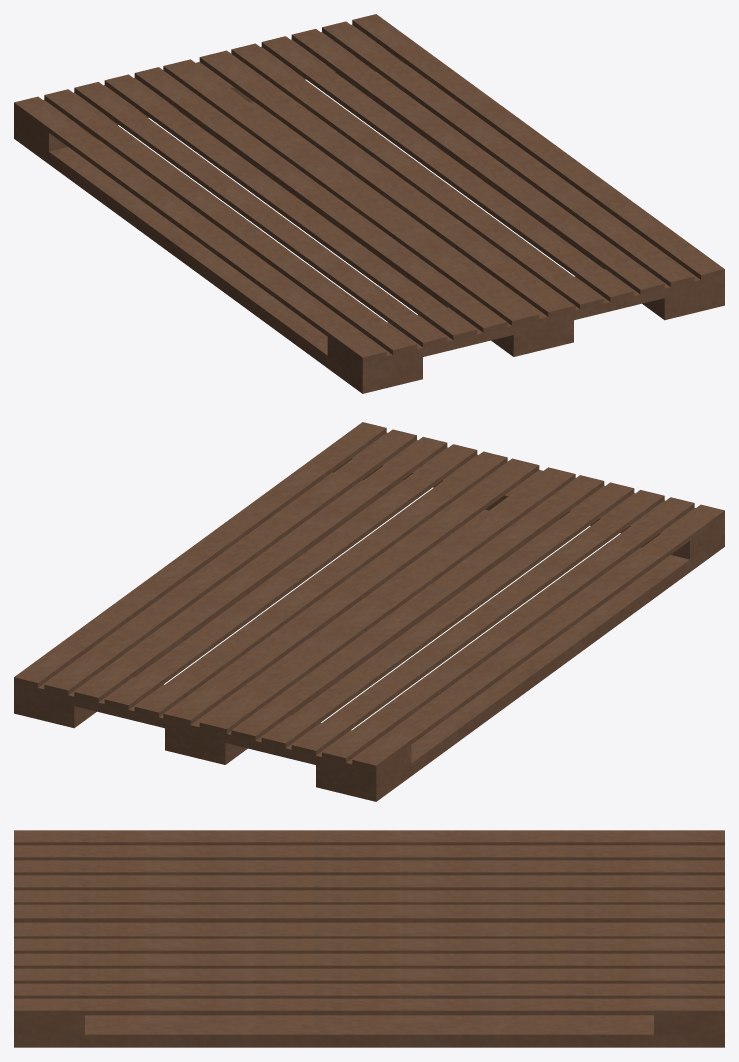
The model's file is pallet.glb.
3 renders of one model, top to bottom at view 1: azimuth 30°, elevation 25°; view 2: azimuth 150°, elevation 25°; view 3: azimuth 270°, elevation 25°, orthographic.
Parts seen in each view (by area): view 1: Wooden_Pallet; view 2: Wooden_Pallet; view 3: Wooden_Pallet.
Part boxes in pixels (x1,y1,x2,y2): Wooden_Pallet: [14, 14, 724, 393]; Wooden_Pallet: [14, 422, 724, 801]; Wooden_Pallet: [14, 830, 724, 1047].
Bounding box in the file's own units: 1.2 × 0.115 × 2.
Materials: 1 (1 with a texture image).
